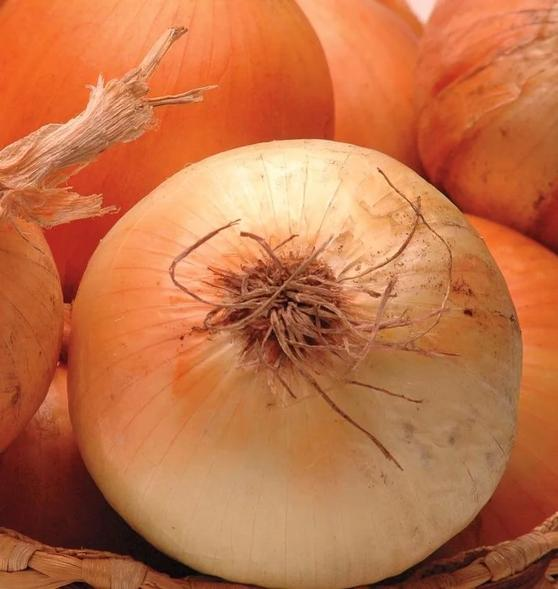onion: (71, 135, 524, 589)
